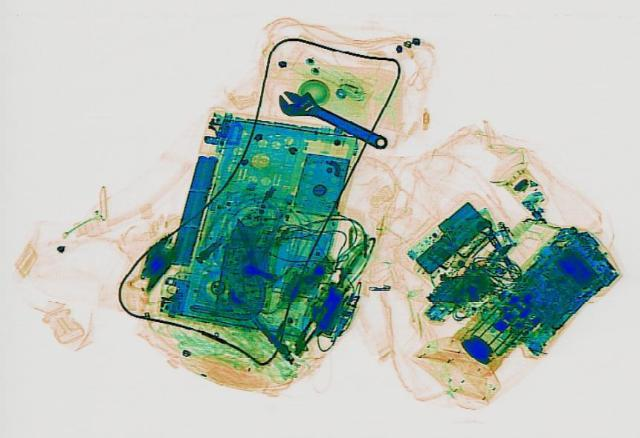Wrench: (264, 81, 398, 156)
